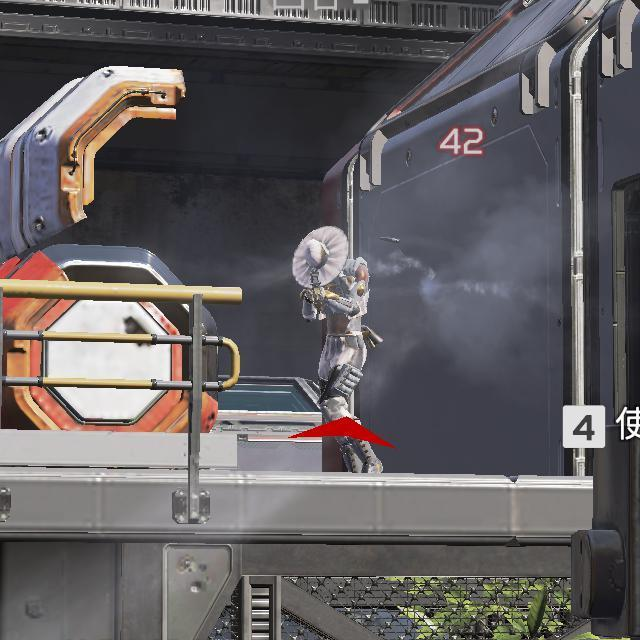avatar: (291, 224, 386, 477)
